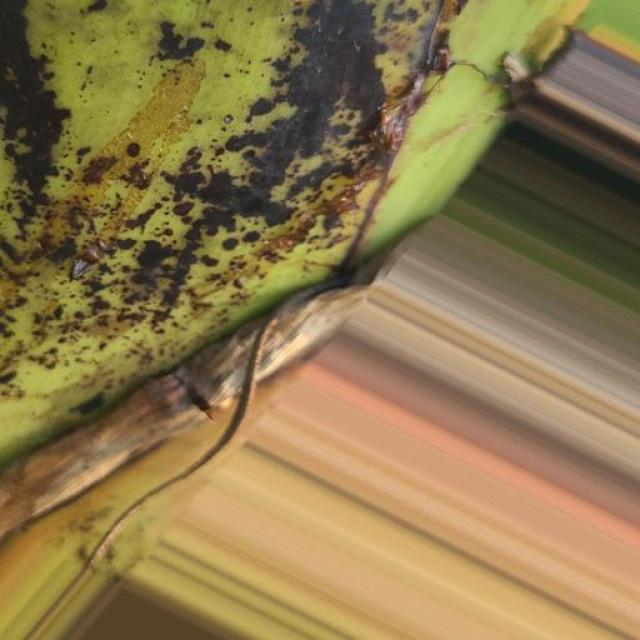Anthracnose: (0, 0, 575, 500)
